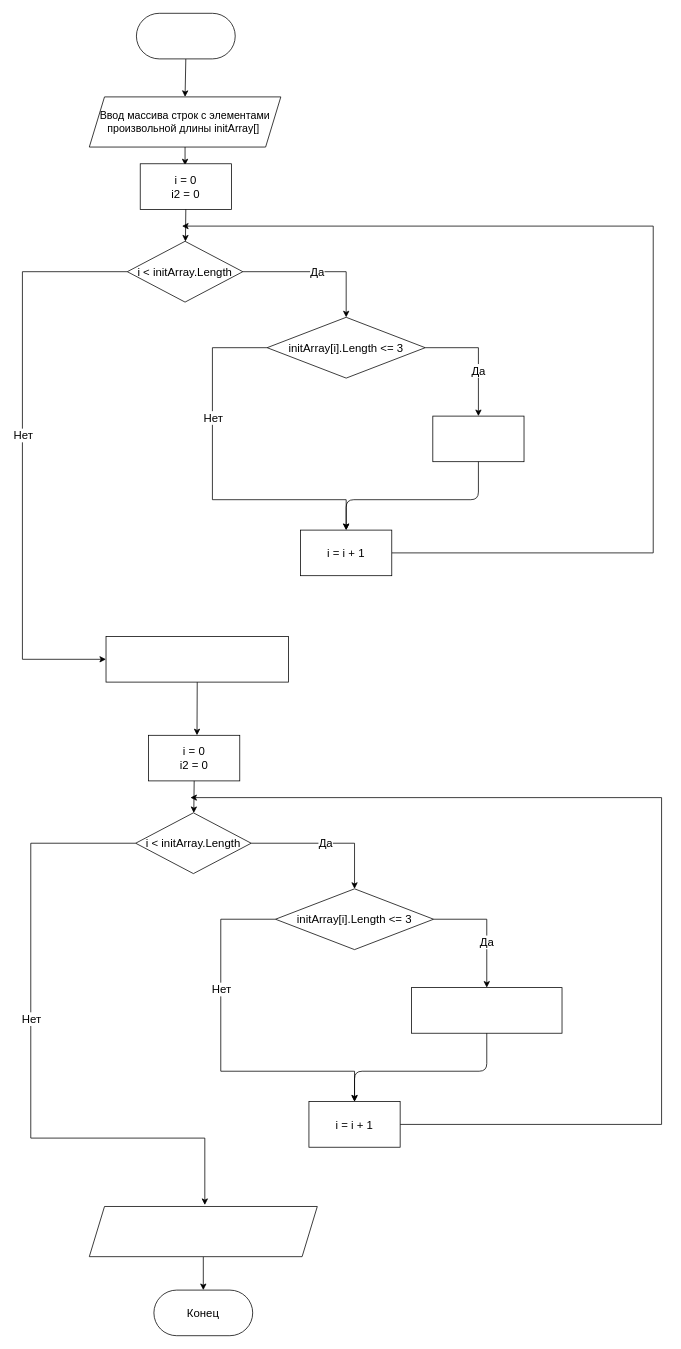
Image size: 681x1349. Some labels were removed from this diagram. Each missing label, with the centre of its shape:
i2 = i2 + 1: point 478,438
resultArray[i] = initArray [i2] i2 = i2 + 1: point 486,1010
string resultArray[] = new string [i2]: point 196,659
Вывод массива resultArray[]: point 203,1231
начало: point 185,36
